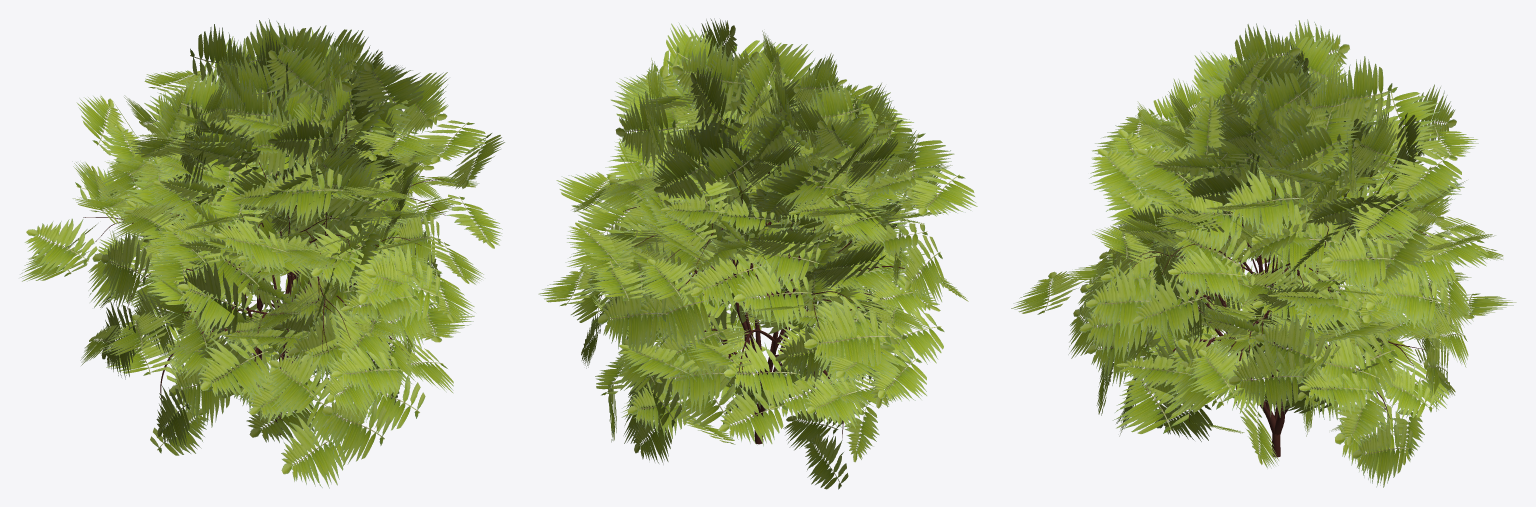
The model's file is Куст.fbx.
The picture shows the model from 3 angles, left to right: view 1: azimuth 30°, elevation 25°; view 2: azimuth 150°, elevation 25°; view 3: azimuth 270°, elevation 25°; orthographic projection. The views are drawn at different scales.
Parts seen in each view (by area): view 1: leaves, tree; view 2: leaves, tree; view 3: leaves, tree.
Part boxes in pixels (<box>): leaves: <box>20,18,504,488</box>; tree: <box>83,100,445,435</box>; leaves: <box>538,18,977,489</box>; tree: <box>598,109,918,444</box>; leaves: <box>1011,19,1516,487</box>; tree: <box>1097,142,1436,457</box>.
Size of the model in its own units: 109 by 108 by 118.
